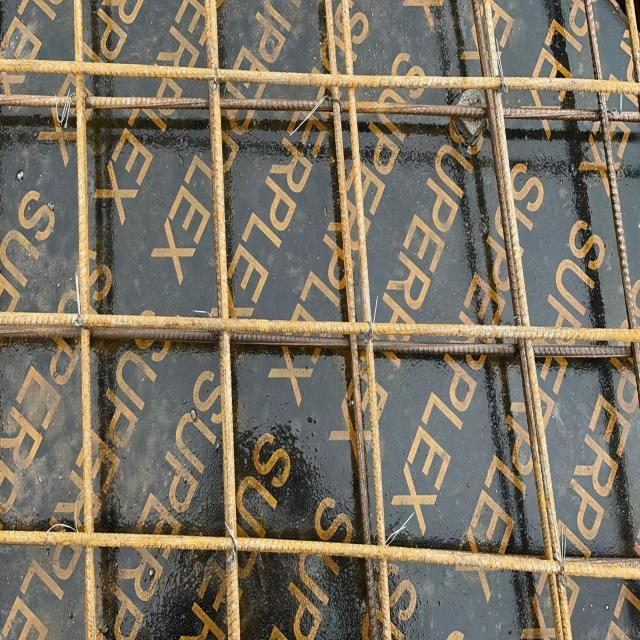ribbed bar: (471, 0, 573, 639), (324, 0, 379, 639), (0, 526, 639, 580), (340, 0, 392, 639), (0, 57, 639, 94), (0, 324, 639, 360), (204, 0, 240, 639), (584, 0, 639, 399), (0, 92, 639, 123), (0, 311, 639, 341), (73, 0, 97, 639), (625, 0, 639, 83)
